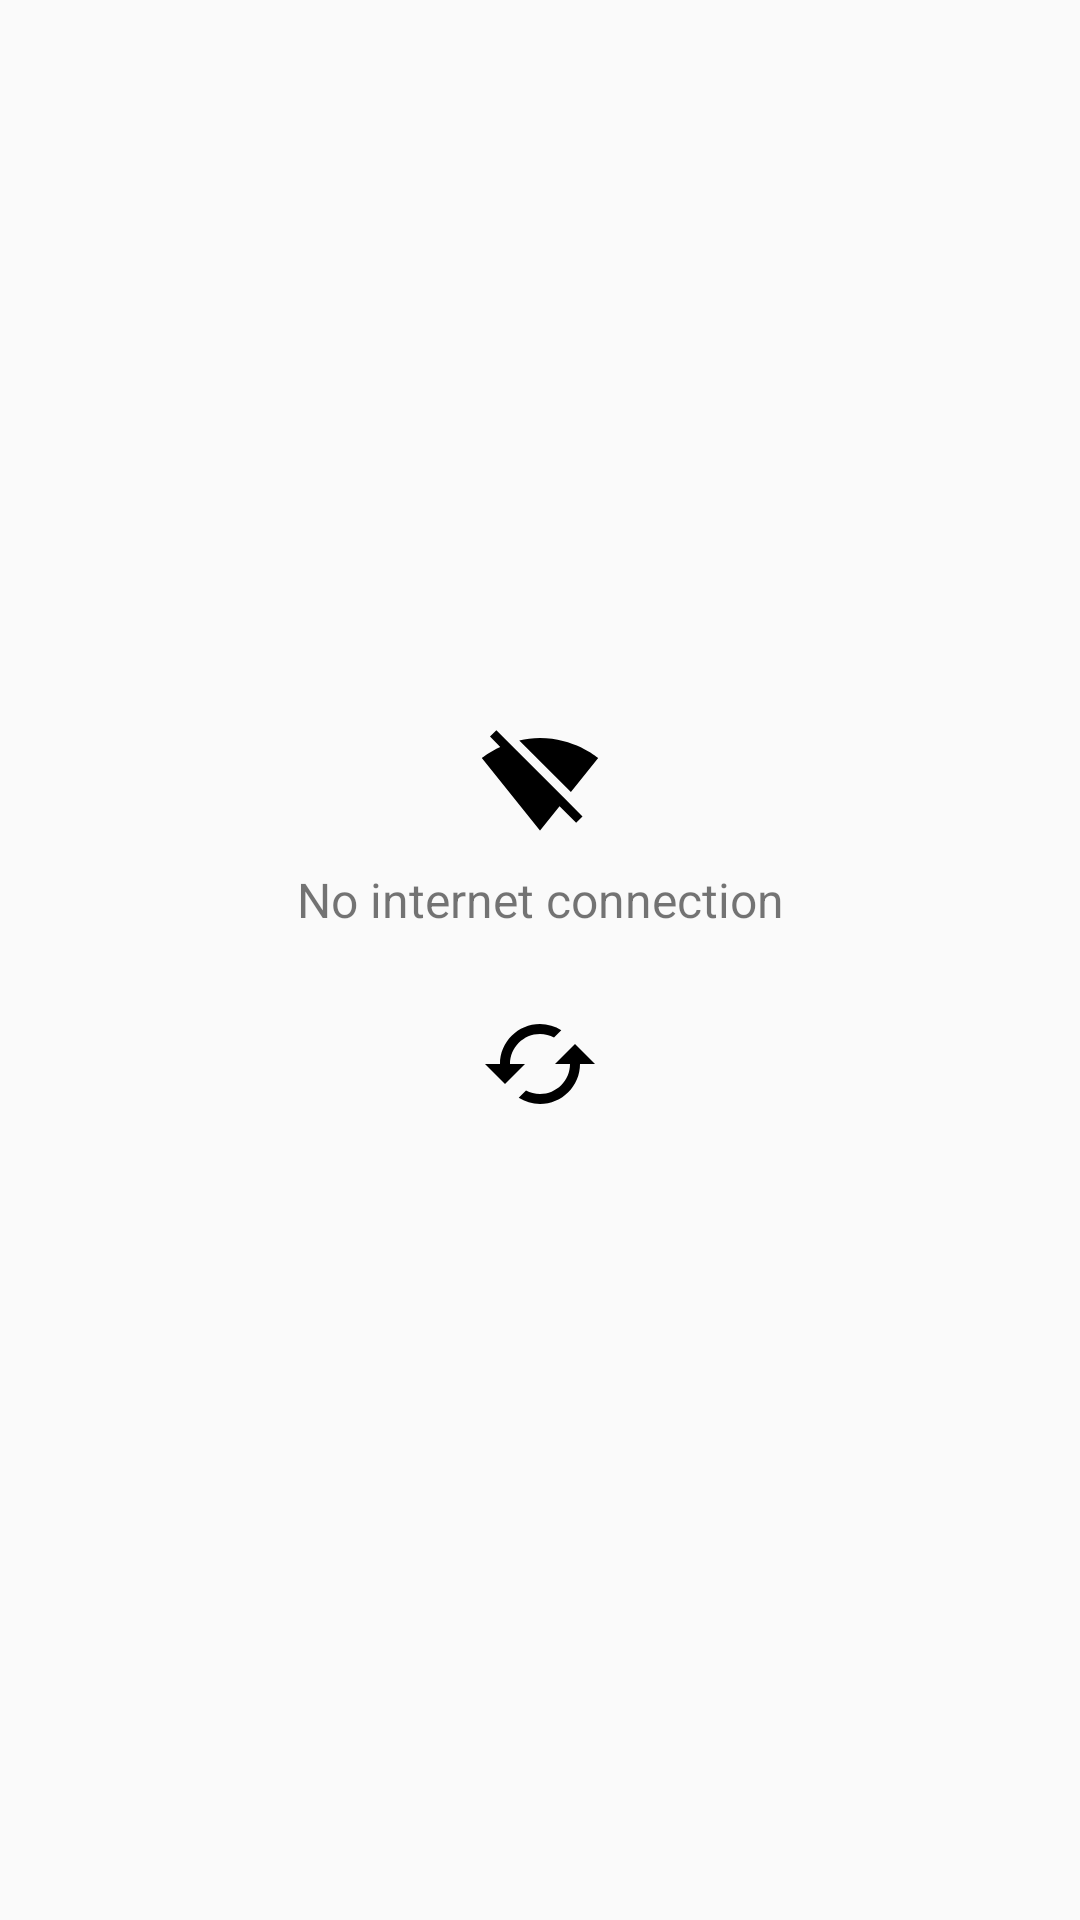

Icon click points for this 1080x1920 phone screenshot, format point (x, y):
retry: point (540, 1064)
